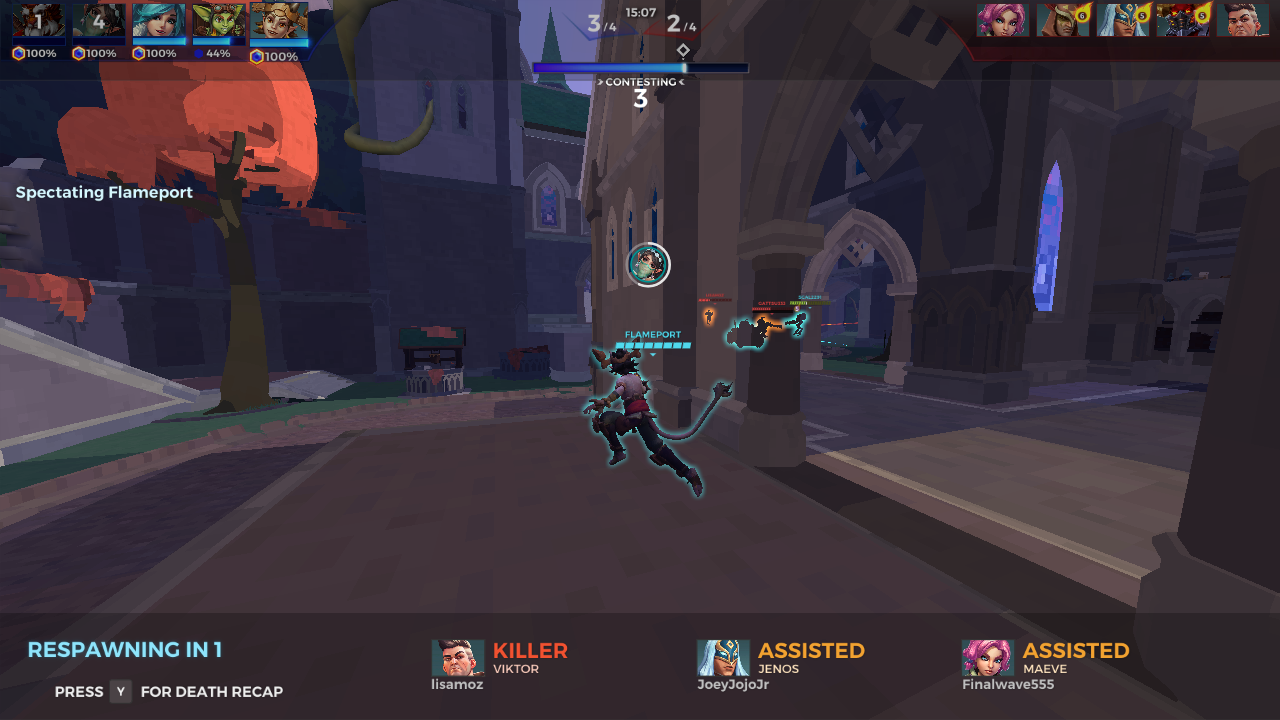model: (751, 316, 775, 340), (700, 301, 716, 332)
